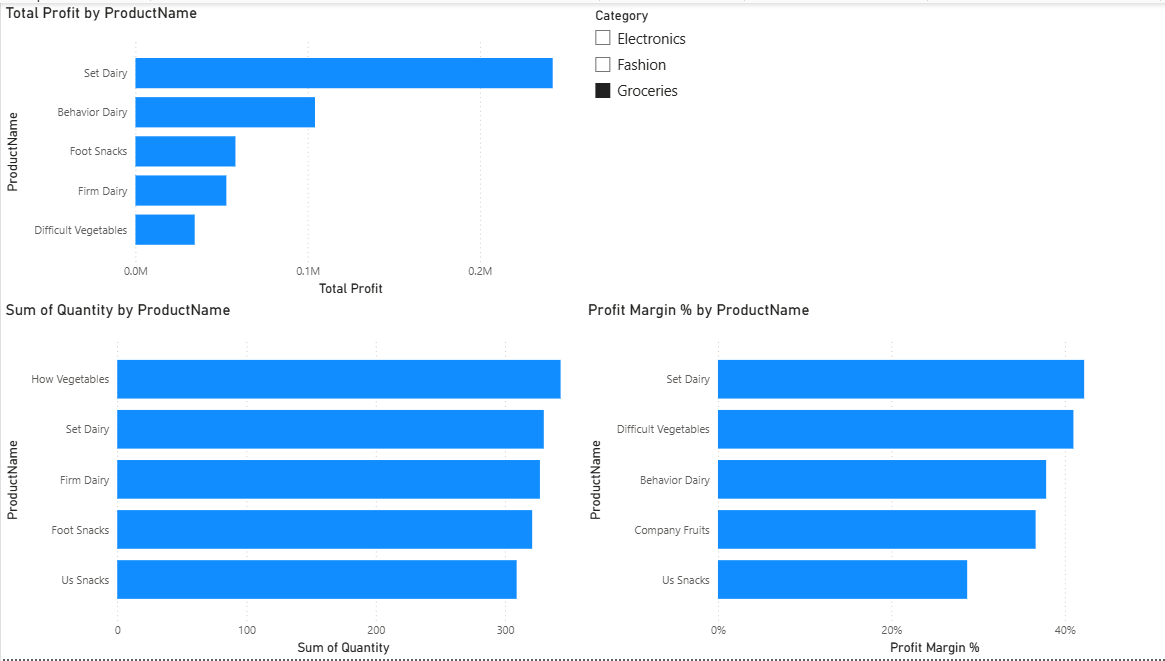

The page's visual inventory and layout, read from the dashboard file:
{"tool":"powerbi","page":{"name":"Product analysis","canvas":[1280,720],"ordinal":1},"visuals":[{"type":"clusteredBarChart","fields":{"Category":["products.ProductName"],"Y":["transactions.Total Profit"]},"box":[0,0,639.5,326.6],"z":0},{"type":"clusteredBarChart","fields":{"Category":["products.ProductName"],"Y":["Sum(transactions.Quantity)"]},"box":[0,326.6,639.5,393.8],"z":1000},{"type":"clusteredBarChart","fields":{"Category":["products.ProductName"],"Y":["transactions.Profit Margin %"]},"box":[639.5,326.6,640.8,393.8],"z":2000},{"type":"slicer","fields":{"Values":["products.Category"]},"box":[639.5,0,640.8,326.6],"z":3000}]}

Visuals, with their boxes in screenshot pixels (x1, y1, x2, y2), scaled from the page's 1280x720 canvas onto the 1165x661 screenshot:
clusteredBarChart - products.ProductName x transactions.Total Profit: bbox=[0, 0, 582, 300]
clusteredBarChart - products.ProductName x Sum(transactions.Quantity): bbox=[0, 300, 582, 660]
clusteredBarChart - products.ProductName x transactions.Profit Margin %: bbox=[582, 300, 1164, 660]
slicer - products.Category: bbox=[582, 0, 1164, 300]
